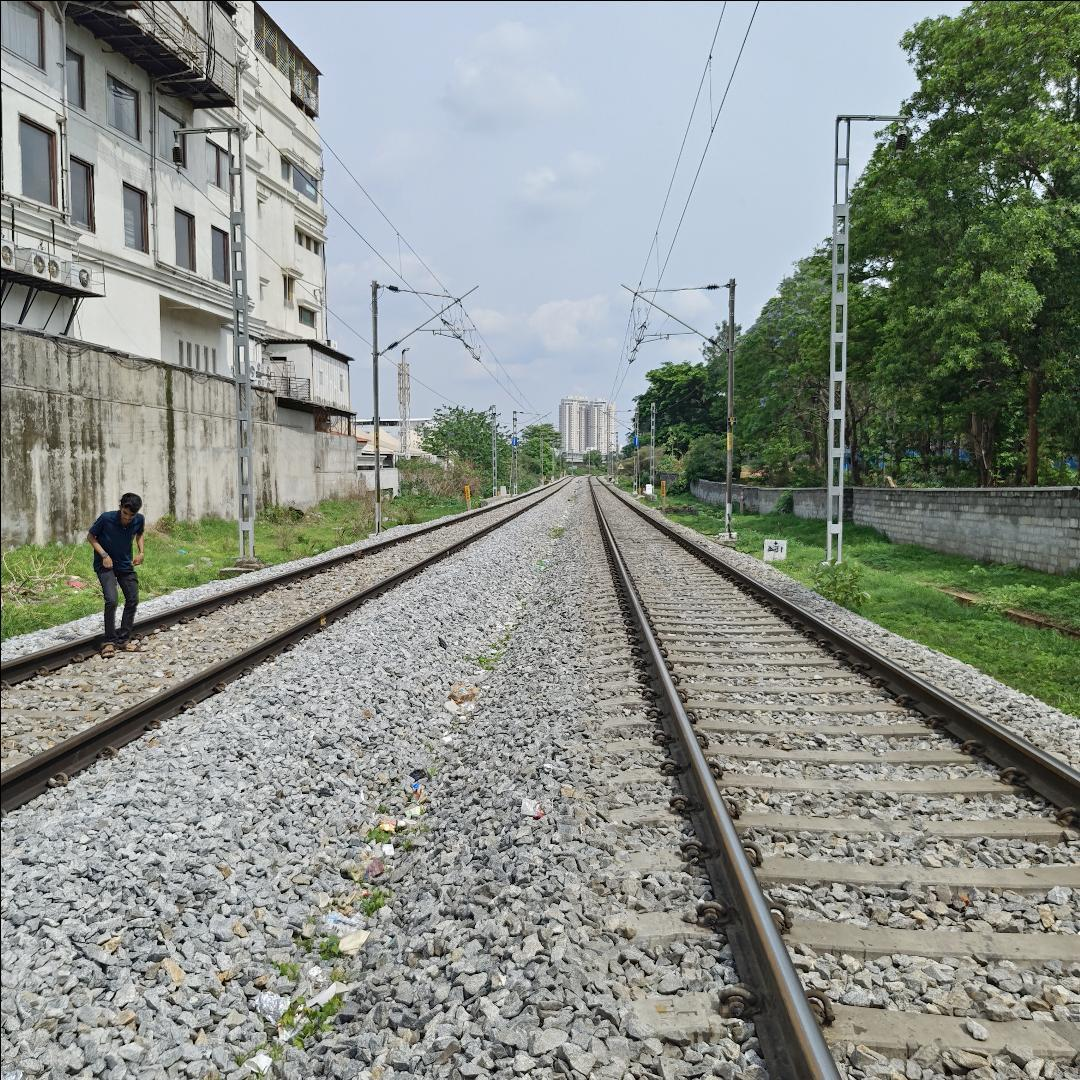standing: (79, 479, 166, 664)
track: (577, 471, 1080, 1080), (0, 478, 565, 843)
